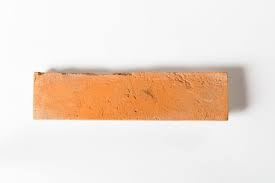brick: (34, 71, 227, 120)
